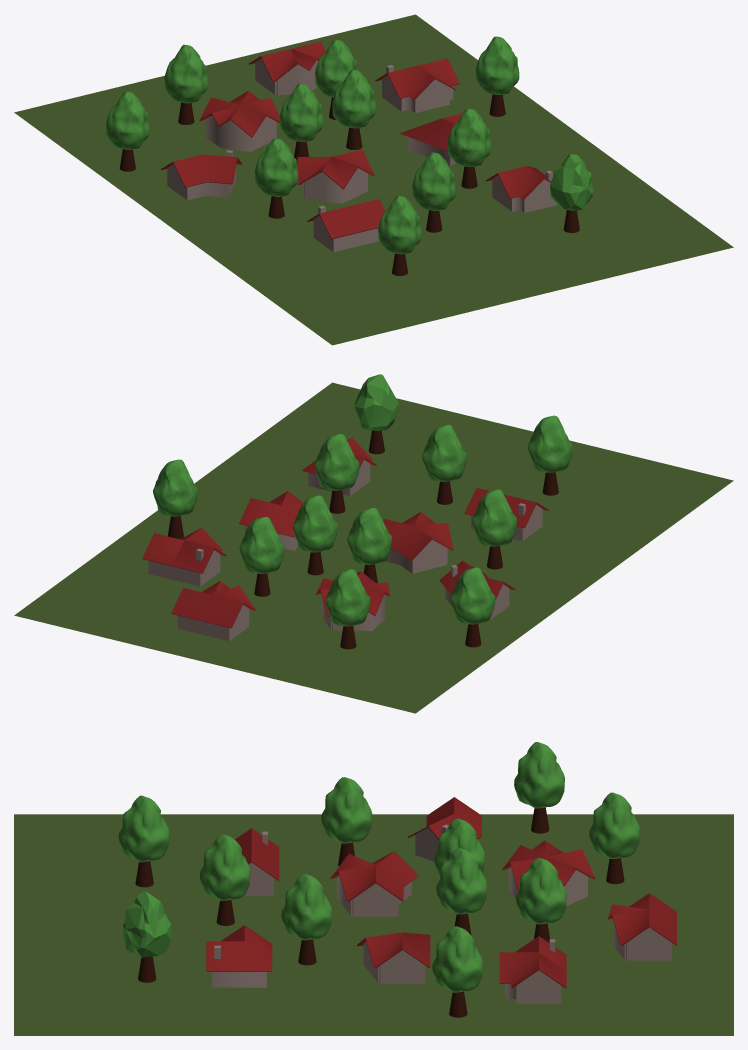
File: village.FBX
The picture shows the model from 3 angles, top to bottom: view 1: azimuth 30°, elevation 25°; view 2: azimuth 150°, elevation 25°; view 3: azimuth 270°, elevation 25°; orthographic projection. The views are drawn at different scales.
Parts seen in each view (by area): view 1: Plane001, Box008, Box007, Box005, Box001, Box009, Box006, Box003, GeoSphere007, GeoSphere002, GeoSphere005, GeoSphere011 (+8 smaller); view 2: Plane001, Box006, Box005, Box007, GeoSphere008, GeoSphere006, GeoSphere005, GeoSphere009, GeoSphere002, GeoSphere004, GeoSphere007, GeoSphere001 (+8 smaller); view 3: Plane001, Box007, Box005, Box006, Box003, Box004, GeoSphere006, GeoSphere002, GeoSphere001, GeoSphere011, GeoSphere009, GeoSphere008 (+8 smaller).
Part boxes in pixels (x1=…): Plane001: x1=14, y1=14, x2=733, y2=345; Box008: x1=199, y1=91, x2=279, y2=151; Box007: x1=297, y1=149, x2=374, y2=203; Box005: x1=375, y1=58, x2=459, y2=113; Box001: x1=307, y1=199, x2=385, y2=252; Box009: x1=161, y1=150, x2=241, y2=200; Box006: x1=249, y1=41, x2=325, y2=95; Box003: x1=486, y1=166, x2=557, y2=212; GeoSphere007: x1=254, y1=138, x2=298, y2=218; GeoSphere002: x1=447, y1=108, x2=491, y2=188; GeoSphere005: x1=332, y1=69, x2=375, y2=149; GeoSphere011: x1=475, y1=36, x2=519, y2=116; Plane001: x1=14, y1=382, x2=733, y2=713; Box006: x1=171, y1=581, x2=255, y2=641; Box005: x1=142, y1=528, x2=226, y2=586; Box007: x1=383, y1=512, x2=453, y2=573; GeoSphere008: x1=450, y1=567, x2=495, y2=647; GeoSphere006: x1=325, y1=569, x2=370, y2=649; GeoSphere005: x1=293, y1=495, x2=337, y2=575; GeoSphere009: x1=528, y1=415, x2=572, y2=495; GeoSphere002: x1=314, y1=434, x2=359, y2=513; GeoSphere004: x1=239, y1=517, x2=284, y2=596; GeoSphere007: x1=472, y1=489, x2=516, y2=569; GeoSphere001: x1=422, y1=425, x2=466, y2=504; Plane001: x1=14, y1=814, x2=733, y2=1035; Box007: x1=330, y1=851, x2=418, y2=916; Box005: x1=499, y1=936, x2=566, y2=1003; Box006: x1=608, y1=893, x2=676, y2=960; Box003: x1=206, y1=925, x2=272, y2=987; Box004: x1=356, y1=932, x2=430, y2=983; GeoSphere006: x1=589, y1=792, x2=640, y2=884; GeoSphere002: x1=281, y1=874, x2=332, y2=965; GeoSphere001: x1=199, y1=834, x2=250, y2=925; GeoSphere011: x1=432, y1=926, x2=483, y2=1017; GeoSphere009: x1=118, y1=795, x2=169, y2=887; GeoSphere008: x1=514, y1=742, x2=564, y2=833.
Size of the model in its own units: 9326 by 1776 by 12800.
